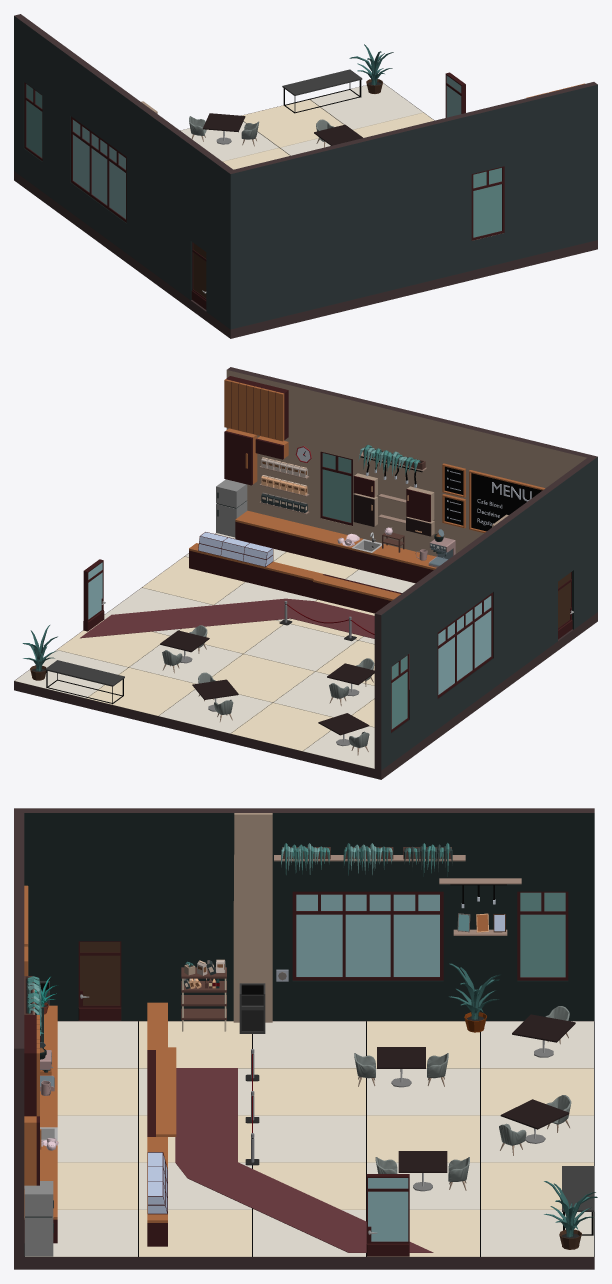
The model's file is UnityEnvironnement.fbx.
3 views of the same model, one above another, from view 1: azimuth 30°, elevation 25°; view 2: azimuth 150°, elevation 25°; view 3: azimuth 270°, elevation 25° (orthographic). The views are drawn at different scales.
Parts seen in each view (by area): view 1: Murs, Carrelage, SolDessousMap, VitresGrandeFenetre.001, VitresfenetreGauche, Tablehaute, GrandeFenetre, VitreFenetreDroite_2, PorteReserve, Table.003, PetitePlante_3, FenetreGauche (+2 smaller); view 2: Murs, Carrelage, Etablis, Tapis.001, SolDessousMap, ArmoirePlanche, PlanDeTravail, VitresGrandeFenetre.001, PancarteMenu, Comptoir, VitresfenetreGauche, CarrauxVitrine (+19 smaller); view 3: Carrelage, Murs, Tapis.001, VitresGrandeFenetre.001, SolDessousMap, VitreFenetreDroite_2, PorteReserve, GrandeFenetre, ArmoirePlanche, Comptoir, Etablis, VitresPorteEntree (+19 smaller).
Part boxes in pixels (left/top/right/bottom): Murs: left=14, top=14, right=597, bottom=329; Carrelage: left=180, top=83, right=433, bottom=169; SolDessousMap: left=14, top=83, right=597, bottom=338; VitresGrandeFenetre.001: left=73, top=120, right=125, bottom=218; VitresfenetreGauche: left=473, top=168, right=501, bottom=237; Tablehaute: left=282, top=69, right=362, bottom=113; GrandeFenetre: left=71, top=116, right=126, bottom=222; VitreFenetreDroite_2: left=26, top=84, right=42, bottom=157; PorteReserve: left=191, top=242, right=206, bottom=309; Table.003: left=202, top=113, right=245, bottom=144; PetitePlante_3: left=349, top=44, right=393, bottom=93; FenetreGauche: left=471, top=166, right=504, bottom=240; Murs: left=226, top=367, right=597, bottom=770; Carrelage: left=15, top=533, right=415, bottom=768; Etablis: left=235, top=510, right=436, bottom=583; Tapis.001: left=80, top=598, right=374, bottom=638; SolDessousMap: left=14, top=533, right=597, bottom=779; ArmoirePlanche: left=224, top=376, right=288, bottom=485; PlanDeTravail: left=189, top=543, right=323, bottom=598; VitresGrandeFenetre.001: left=438, top=596, right=491, bottom=694; PancarteMenu: left=469, top=470, right=545, bottom=532; Comptoir: left=313, top=574, right=401, bottom=613; VitresfenetreGauche: left=322, top=453, right=351, bottom=522; CarrauxVitrine: left=198, top=532, right=272, bottom=566; Carrelage: left=24, top=1021, right=594, bottom=1256; Murs: left=14, top=808, right=594, bottom=1256; Tapis.001: left=175, top=1068, right=433, bottom=1252; VitresGrandeFenetre.001: left=296, top=894, right=439, bottom=976; SolDessousMap: left=14, top=1020, right=594, bottom=1269; VitreFenetreDroite_2: left=520, top=892, right=565, bottom=977; PorteReserve: left=78, top=941, right=121, bottom=1020; GrandeFenetre: left=292, top=891, right=443, bottom=980; ArmoirePlanche: left=24, top=1015, right=41, bottom=1185; Comptoir: left=147, top=1047, right=176, bottom=1136; Etablis: left=24, top=1005, right=57, bottom=1243; VitresPorteEntree: left=368, top=1178, right=408, bottom=1241.
Size of the model in its own units: 1096 by 466 by 1117.
